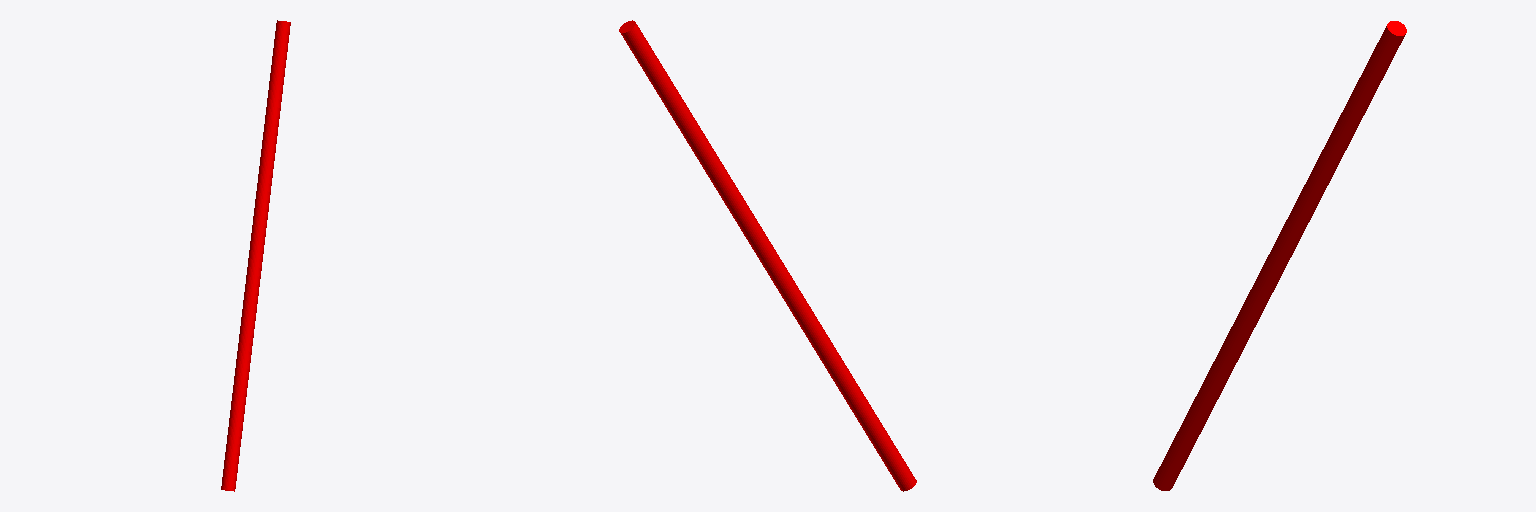
The robot description file, URDF, robot "tree_52.urdf":
<?xml version='1.0' encoding='utf-8'?>
<robot name="tree_52.urdf">
  <link name="branch_0">
    <inertial>
      <origin xyz="0.0 0.0 0.0" rpy="0.0 -0.0 0.0" />
      <mass value="1.0" />
      <inertia ixx="1.0" ixy="0.0" ixz="0.0" iyy="1.0" iyz="0.0" izz="1.0" />
    </inertial>
    <visual name="branch_0_visual">
      <geometry>
        <cylinder radius="0.036392113898964094" length="2.397434130614471" />
      </geometry>
      <material name="semantic_material" />
      <origin xyz="0.39725618407064023 0.40562006604234113 1.0557378883511908" rpy="-5.551115123125783e-17 0.49340943410336124 0.7958151852418647" />
    </visual>
    <collision name="branch_0_collision">
      <geometry>
        <cylinder radius="0.036392113898964094" length="2.397434130614471" />
      </geometry>
      <origin xyz="0.39725618407064023 0.40562006604234113 1.0557378883511908" rpy="-5.551115123125783e-17 0.49340943410336124 0.7958151852418647" />
    </collision>
  </link>
  <material name="semantic_material">
    <color rgba="1. 0. 0. 1." />
  </material>
</robot>

--- Render facts (derived) ---
The picture shows the robot from 3 angles, left to right: view 1: azimuth 30°, elevation 25°; view 2: azimuth 150°, elevation 25°; view 3: azimuth 270°, elevation 25°; orthographic projection.
Model tree_52.urdf with 1 links and 0 joints (none), rooted at branch_0, posed all joints at 0.
Links seen in each view (by area): view 1: branch_0; view 2: branch_0; view 3: branch_0.
Boxes of the visible links, <box> form: branch_0: <box>221,20,290,491</box>; branch_0: <box>619,20,916,491</box>; branch_0: <box>1153,21,1406,490</box>.
Bounding box of the posed robot: 0.863 × 0.8796 × 2.15 m (x, y, z).
Geometry: primitives only (box / cylinder / sphere), no mesh files.